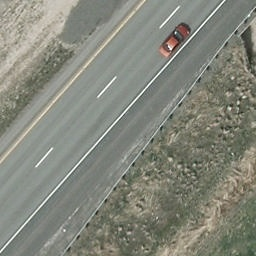car: (158, 24, 191, 59)
